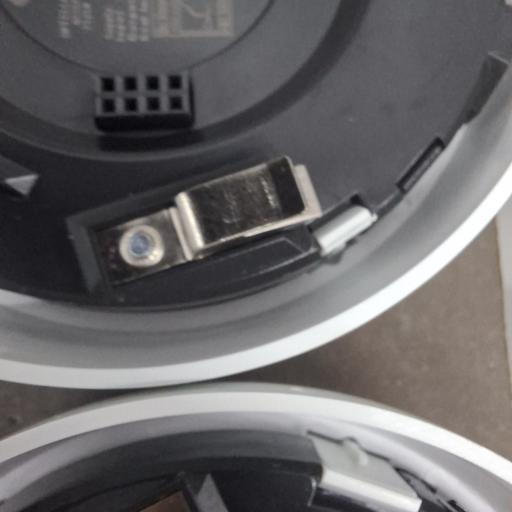yayli: (83, 154, 327, 290)
